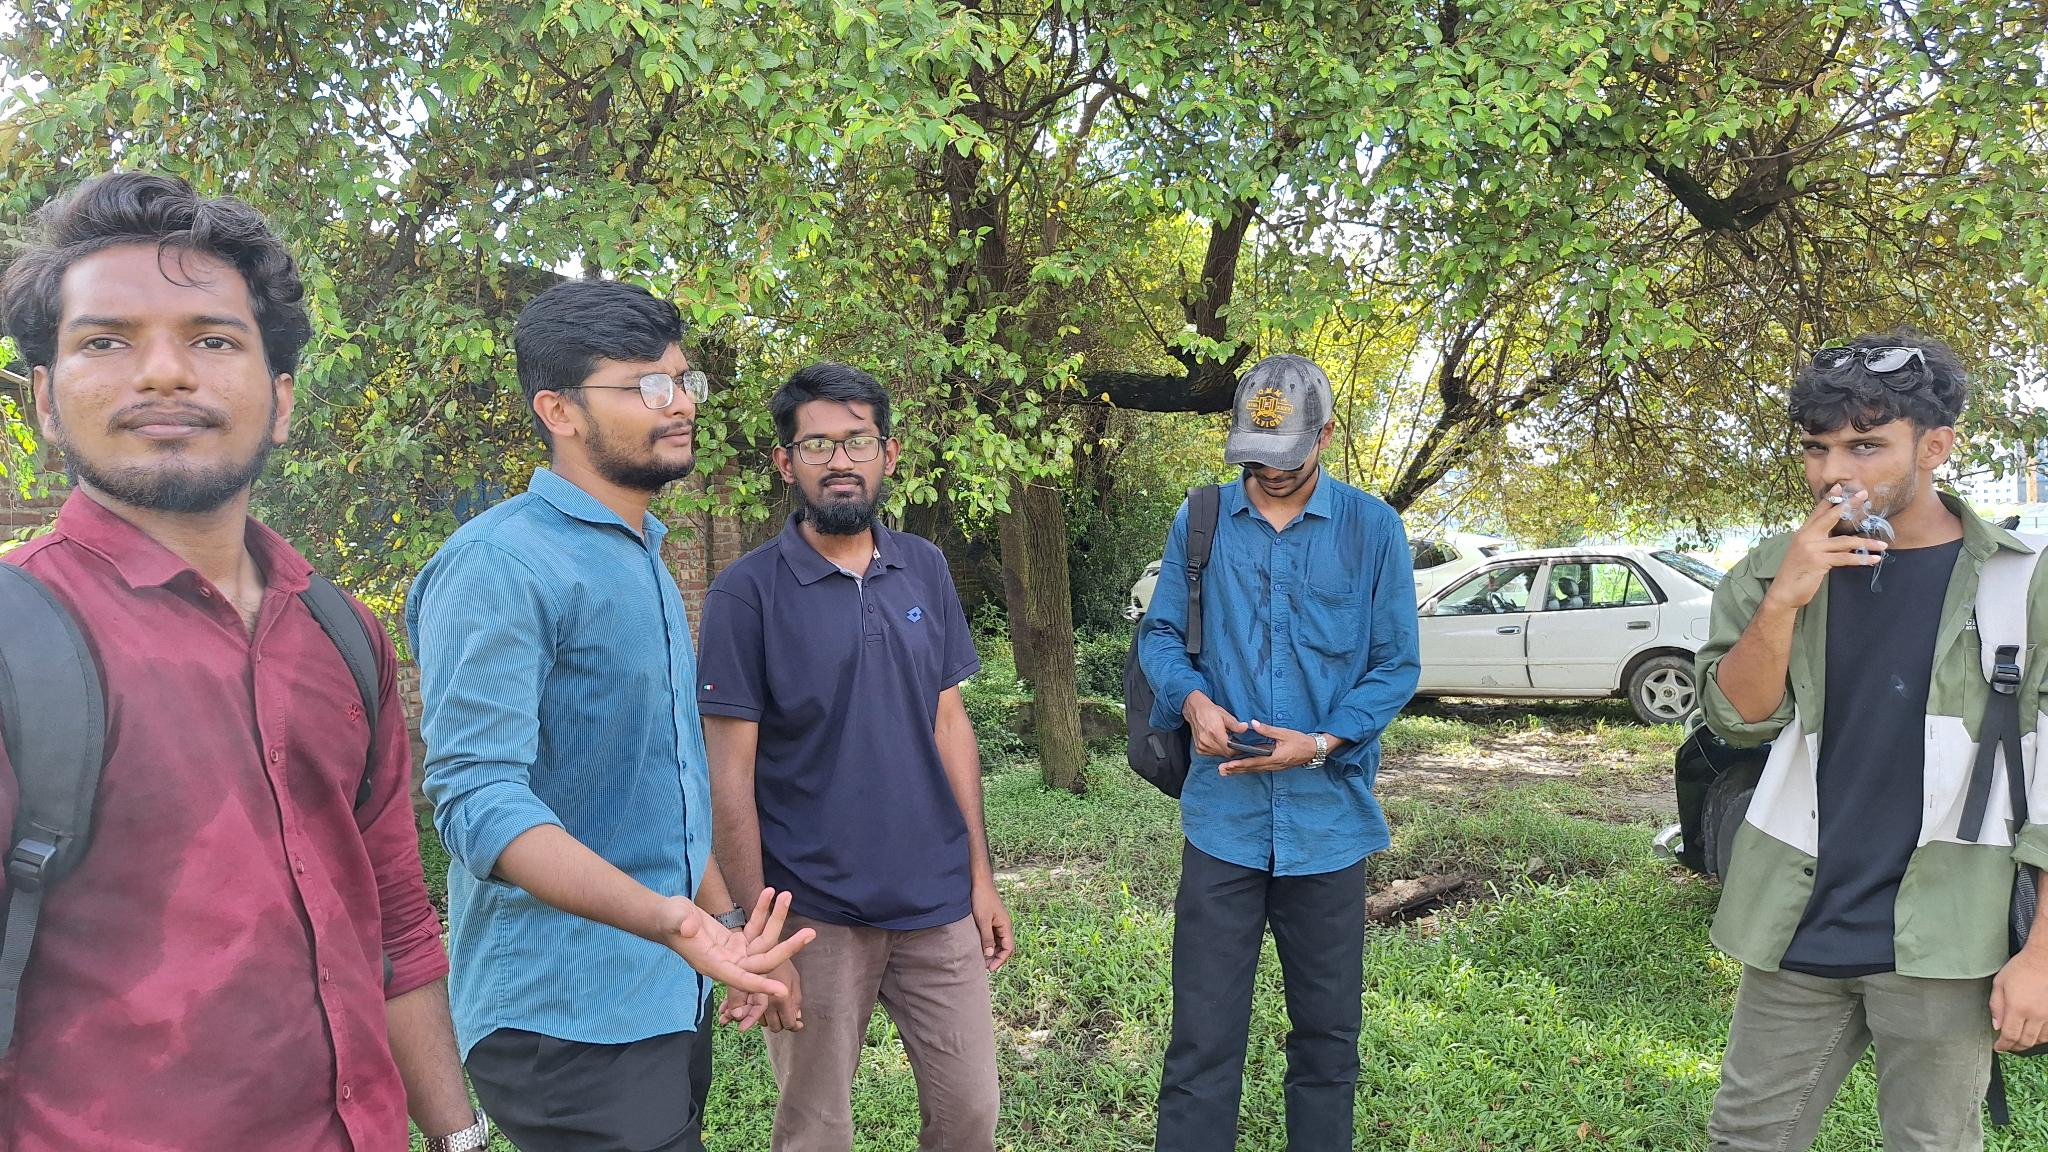cigarette: (1823, 494, 1850, 506)
nonSmoker: (0, 167, 495, 1152), (409, 277, 819, 1152), (698, 363, 1010, 1152), (1128, 352, 1422, 1152)
smoker: (1674, 332, 2048, 1152)
